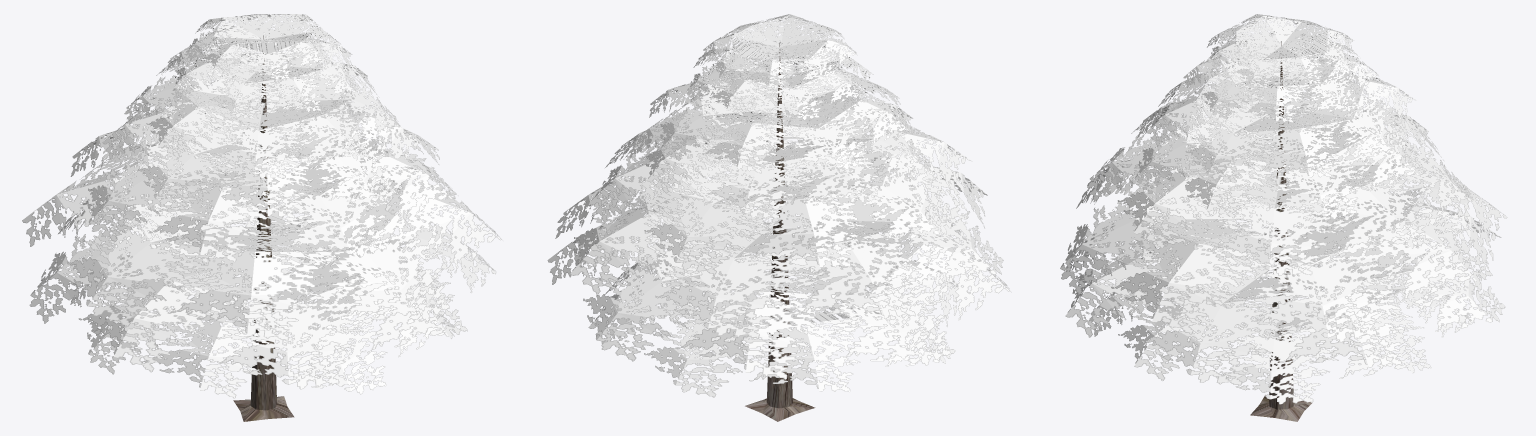
Rendered from Tree.fbx.
3 views of the same model, side by side, from view 1: azimuth 30°, elevation 25°; view 2: azimuth 150°, elevation 25°; view 3: azimuth 270°, elevation 25° (orthographic). The views are drawn at different scales.
Visible parts, largest first — view 1: Object.308, Object.309; view 2: Object.308, Object.309; view 3: Object.308, Object.309.
Part boxes in pixels (bbox=[...]): Object.308: bbox=[22, 14, 502, 398]; Object.309: bbox=[233, 35, 294, 421]; Object.308: bbox=[547, 14, 1011, 397]; Object.309: bbox=[745, 43, 815, 421]; Object.308: bbox=[1060, 14, 1507, 404]; Object.309: bbox=[1250, 41, 1311, 421].
Size of the model in its own units: 106 by 91.21 by 105.
2 materials, 2 textured.
